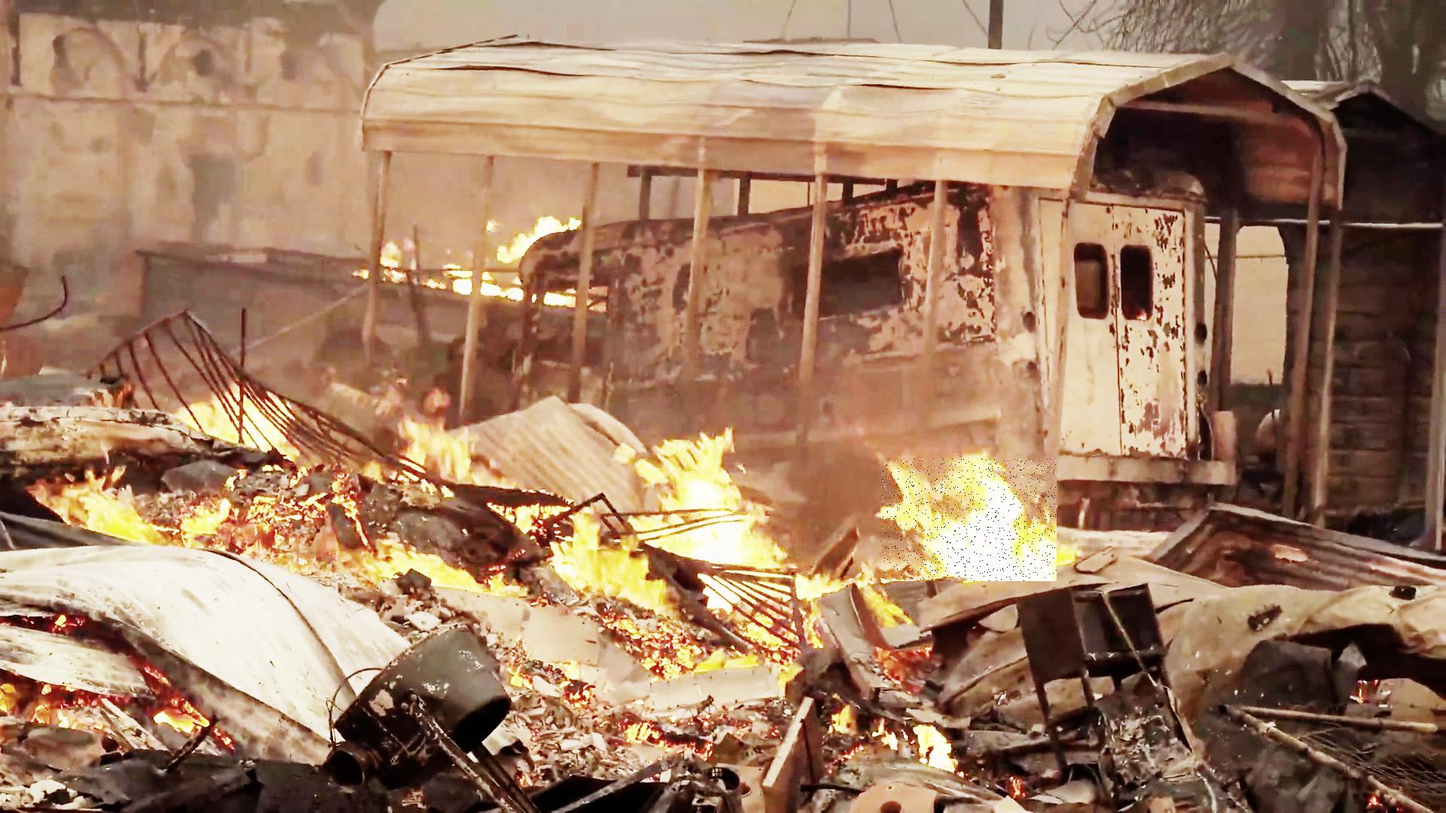fire: (881, 458, 1057, 581)
